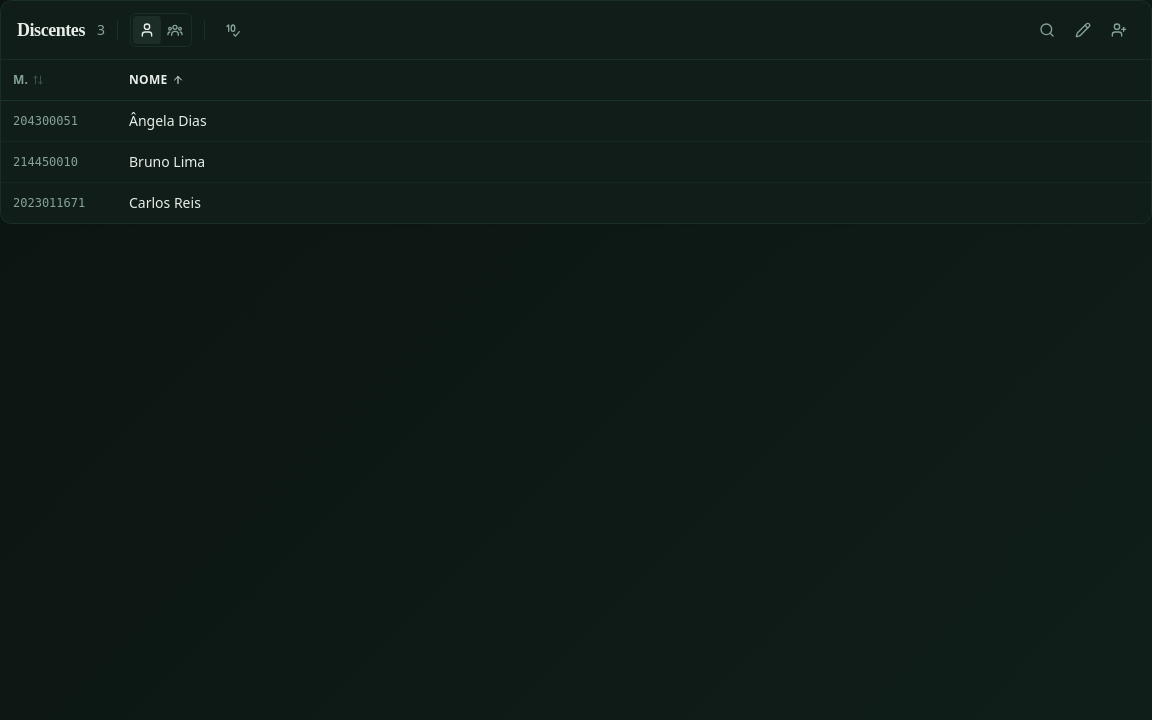
EnrollmentTable › says so when the search finds nobody
Click the button named "Buscar discente" at (1047, 30), box [1031,14,1063,46]
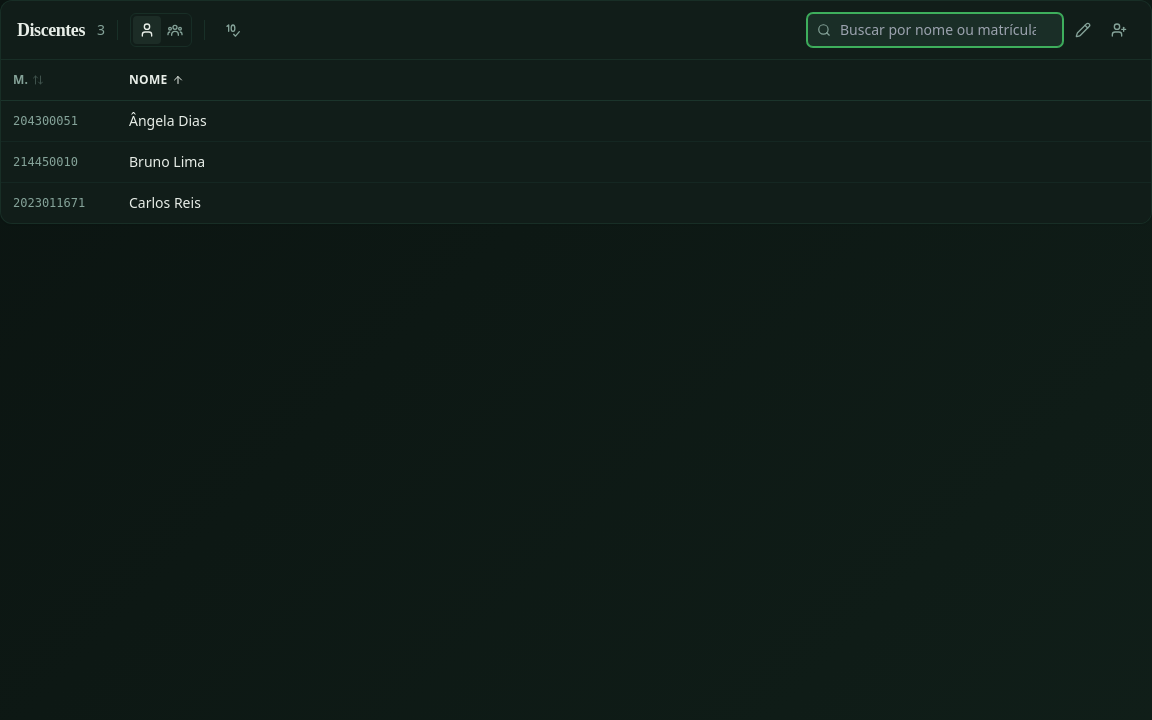
Type "zzz" into the search field at (935, 30), box [807,13,1063,47]
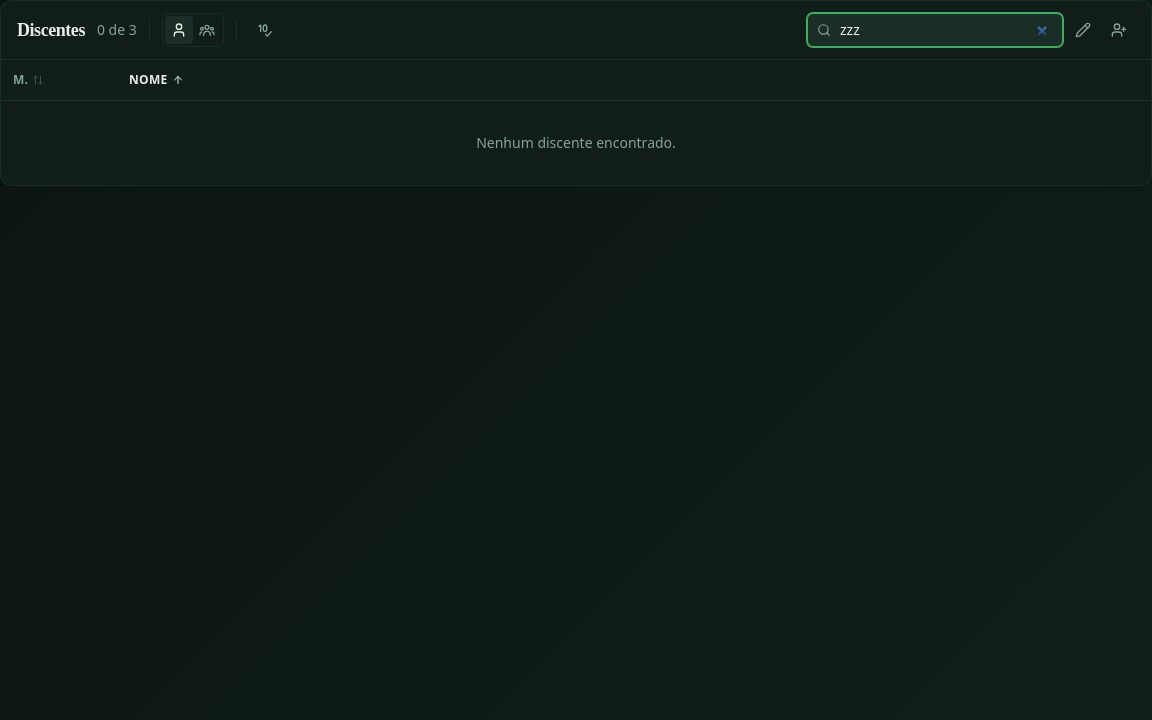
Expected: the text "Nenhum discente encontrado." is shown, [1,100,1151,185]
